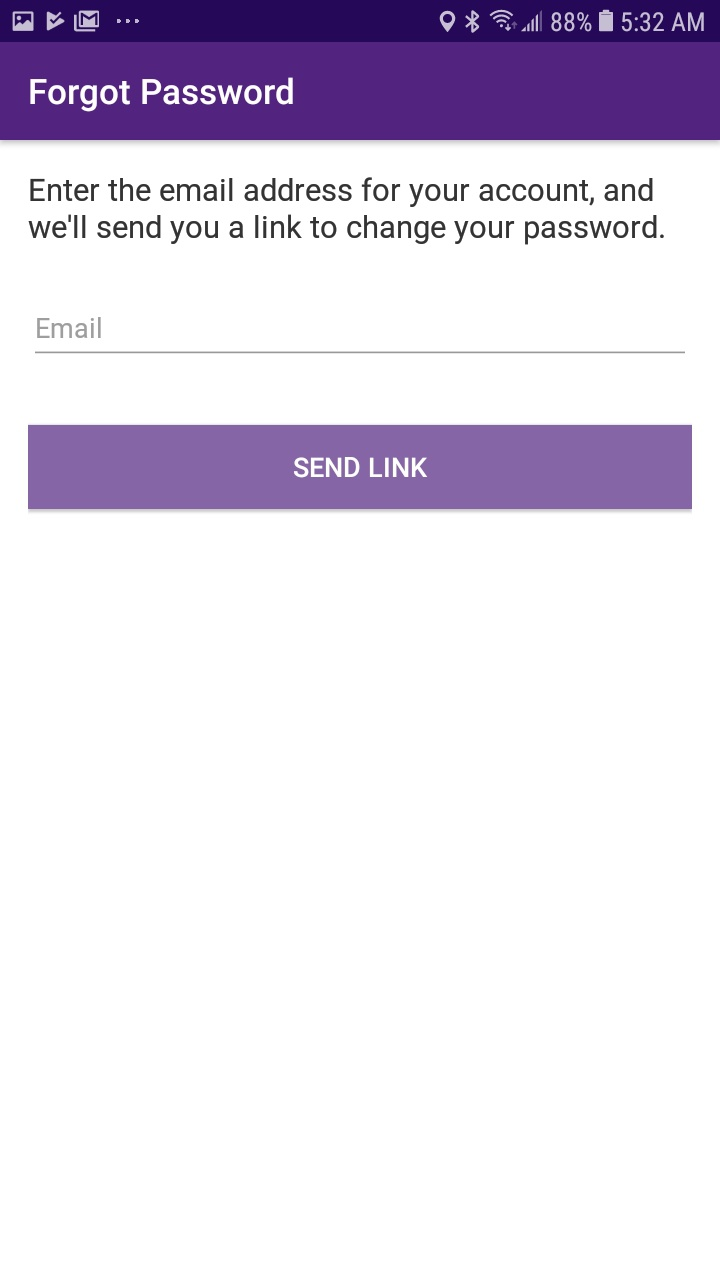EditText: (35, 317, 685, 355)
Text: (29, 177, 665, 246), (30, 77, 294, 113), (38, 318, 103, 340)
TextButton: (28, 425, 692, 510)
UpperTaskBar: (1, 1, 720, 43)
